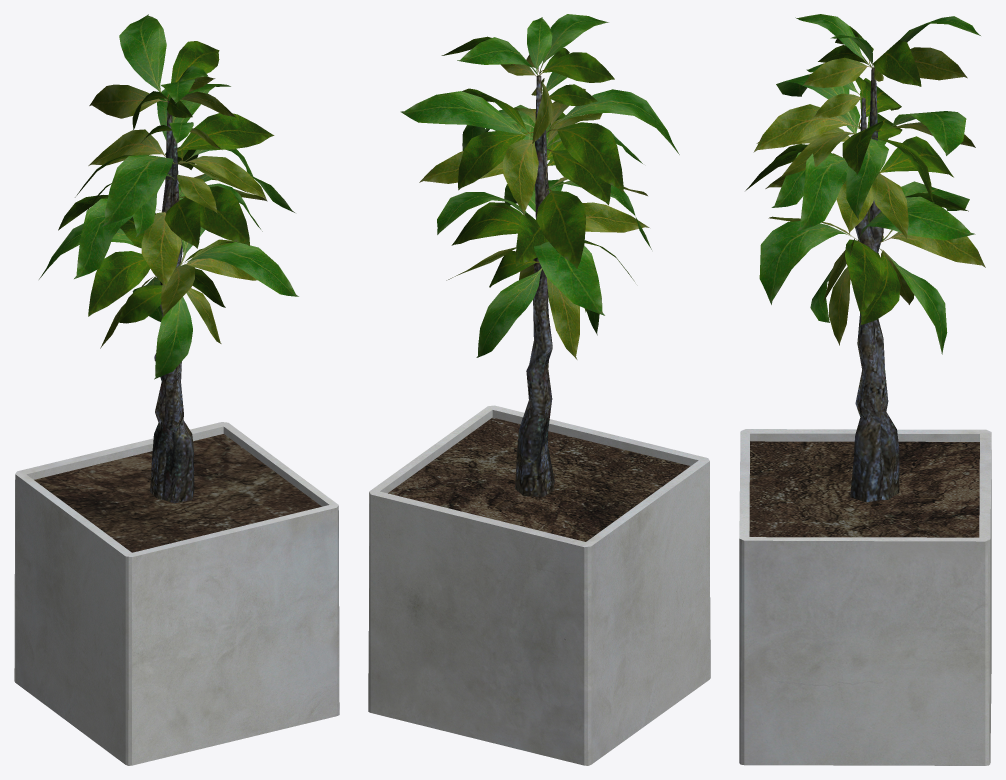
File: frl_apartment_indoor_plant_01.glb
3 renders of one model, left to right at view 1: azimuth 30°, elevation 25°; view 2: azimuth 150°, elevation 25°; view 3: azimuth 270°, elevation 25°, orthographic. The views are drawn at different scales.
Visible parts, largest first — view 1: frl_apartment_indoor_plant_01; view 2: frl_apartment_indoor_plant_01; view 3: frl_apartment_indoor_plant_01.
Part boxes in pixels (x1,y1,x2,y2): frl_apartment_indoor_plant_01: [14, 14, 339, 765]; frl_apartment_indoor_plant_01: [368, 14, 710, 765]; frl_apartment_indoor_plant_01: [739, 14, 991, 765].
Bounding box in the file's own units: 0.5173 × 1.49 × 0.4905.
1 material, 1 textured.
